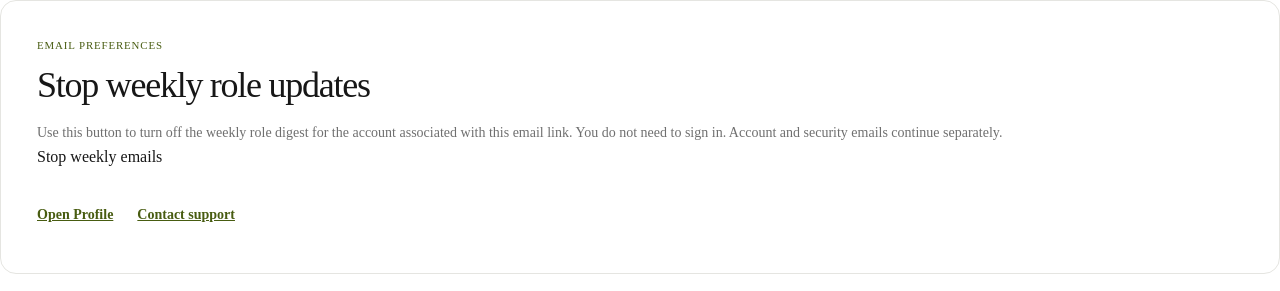
it: login-free one-shot unsubscribe confirmation › requires a new manual next step after a rejected or expired proof
The image size is (1280, 291).
Click the button "Stop weekly emails". click: coordinates (100, 157)
box: x1=37 y1=145 x2=162 y2=169
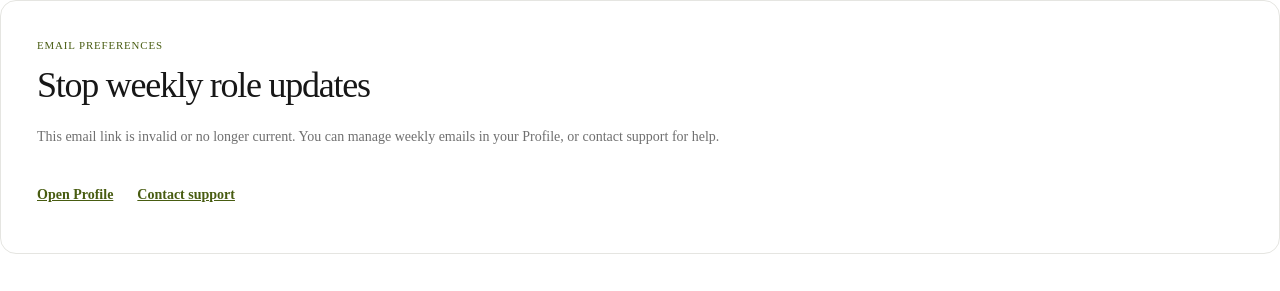
Result: the message shows "invalid or no longer current" at x1=37 y1=129 x2=719 y2=144
Result: the button "Stop weekly emails" is gone
